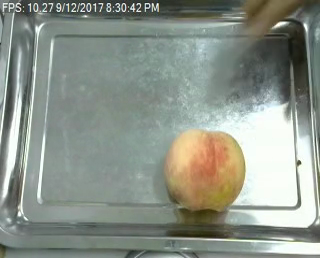Peach: (164, 128, 246, 211)
